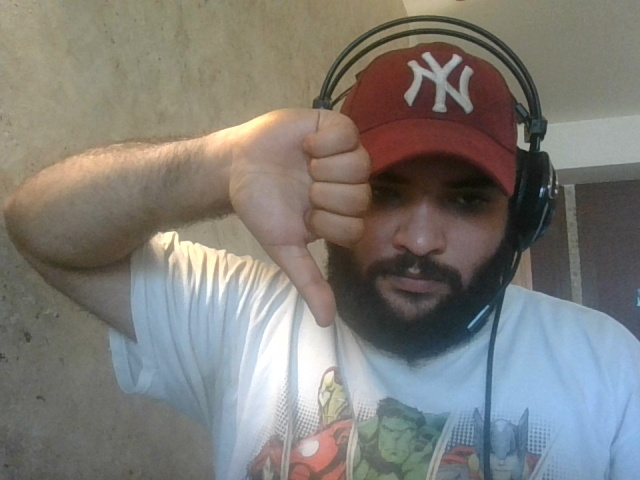no: (214, 93, 373, 333)
